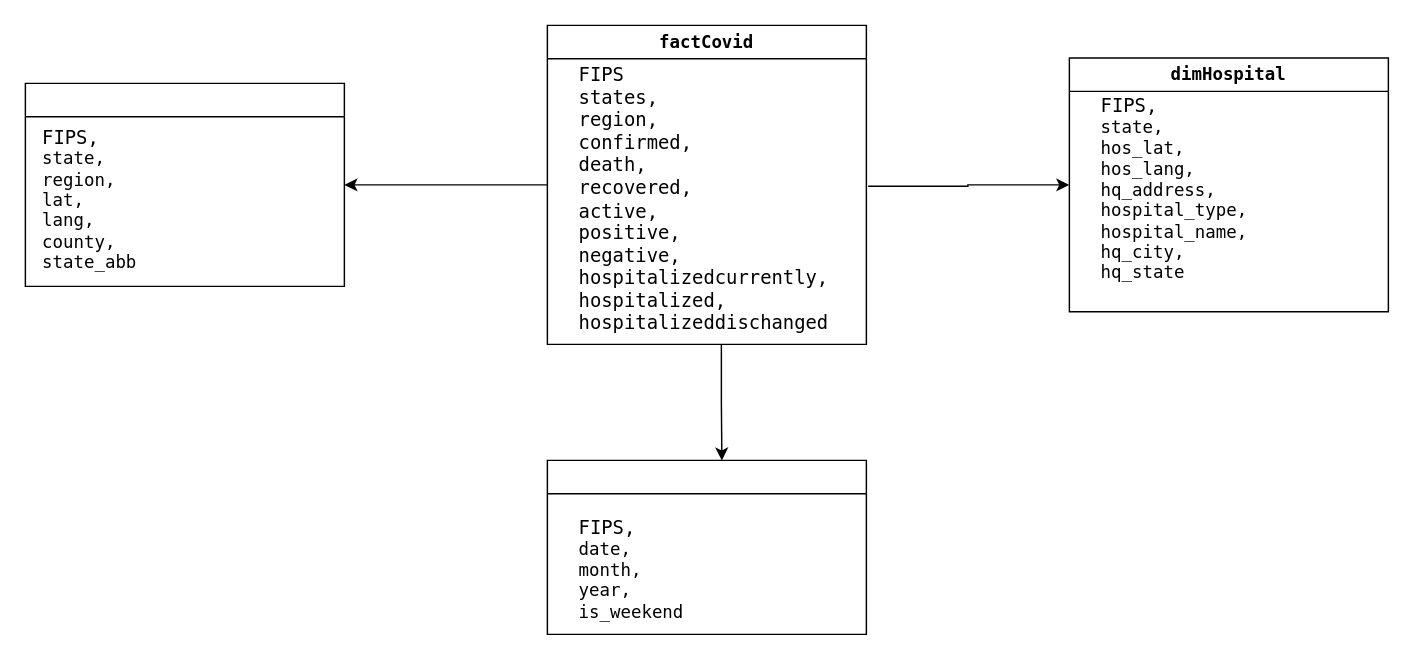
Some shapes in this 1414 by 660 pixel diagram are drawn without their labels. The shapes that lost their labels are listed below. From the top down, each one's box as (x1, y1, x2, y2) in pixels, then its label:
(24, 82, 344, 286): dimRegion
(546, 459, 866, 634): dimDate
